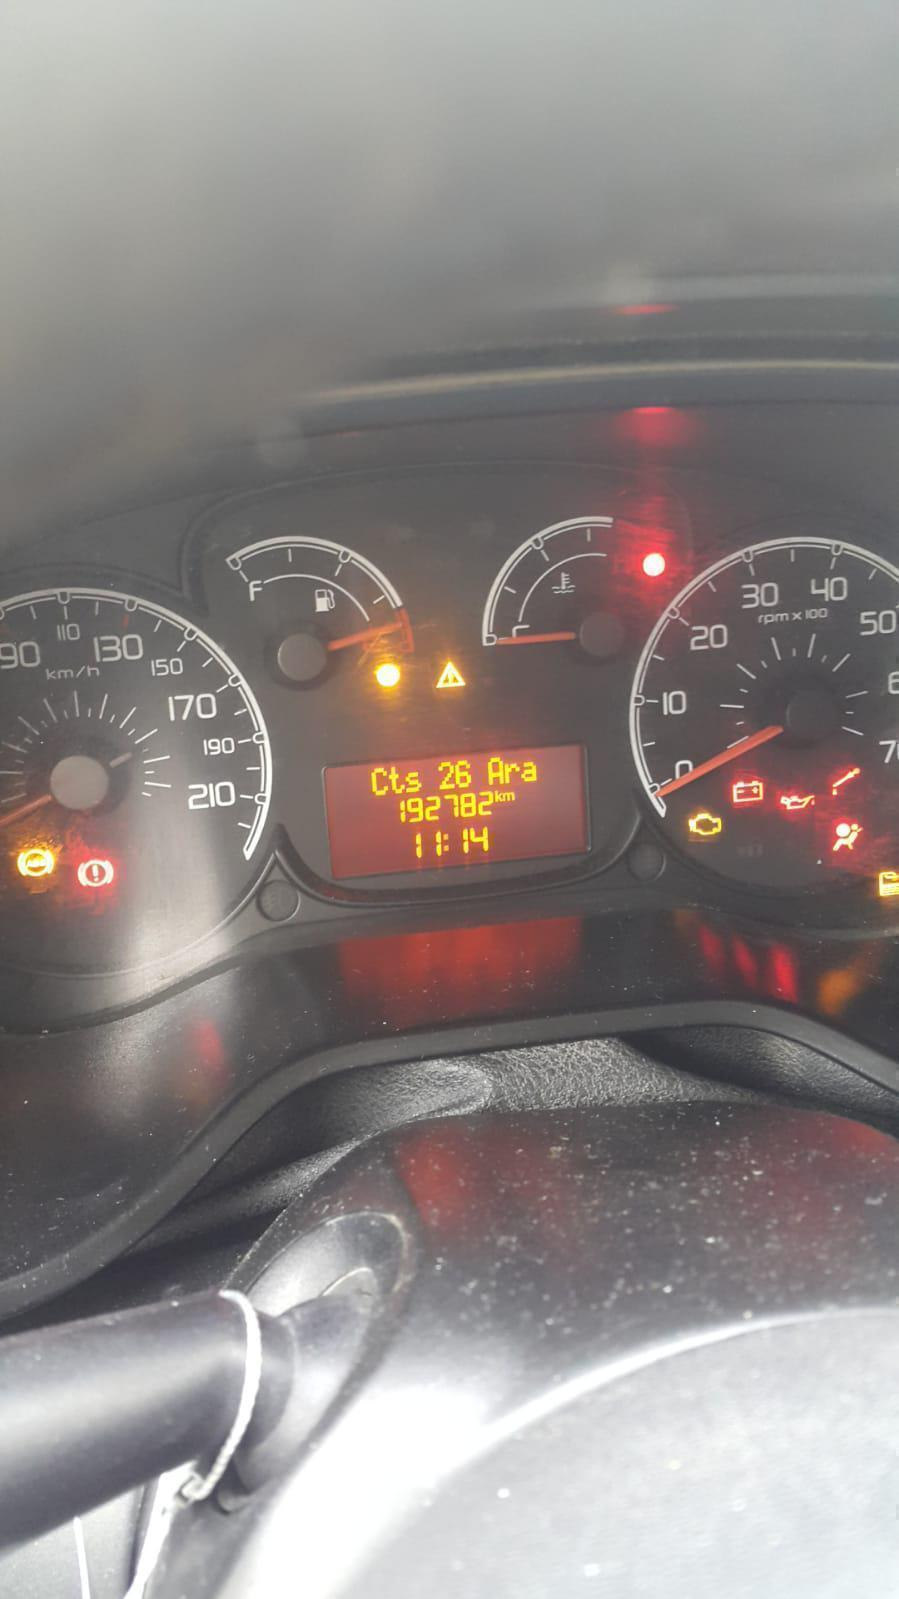1: (411, 830, 424, 860), (432, 829, 442, 860), (460, 825, 469, 854), (398, 798, 407, 825)
2: (437, 760, 456, 790), (424, 794, 441, 821), (477, 790, 494, 815)
4: (468, 825, 488, 853)
6: (457, 758, 474, 789)
7: (443, 792, 460, 817)
8: (460, 791, 477, 819)
9: (406, 796, 422, 823)
X: (370, 765, 387, 798), (387, 765, 405, 794), (487, 756, 504, 785), (406, 769, 423, 792), (504, 761, 520, 783), (521, 760, 536, 782), (443, 831, 450, 854), (494, 789, 503, 803), (502, 792, 515, 801)
odometer: (321, 739, 599, 881)
